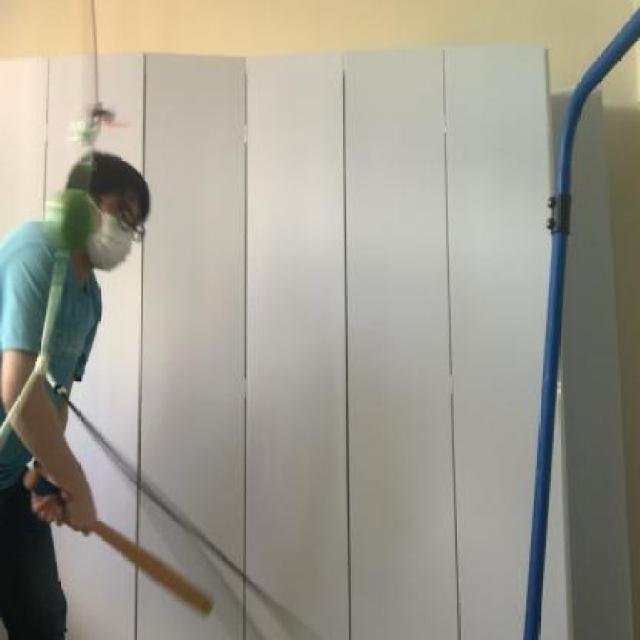baseball: (39, 176, 101, 262)
